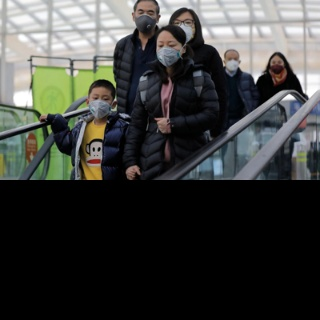with_mask: (155, 38, 184, 68), (87, 92, 113, 120), (134, 7, 159, 33), (172, 16, 196, 43), (223, 55, 240, 72), (269, 58, 285, 76)
